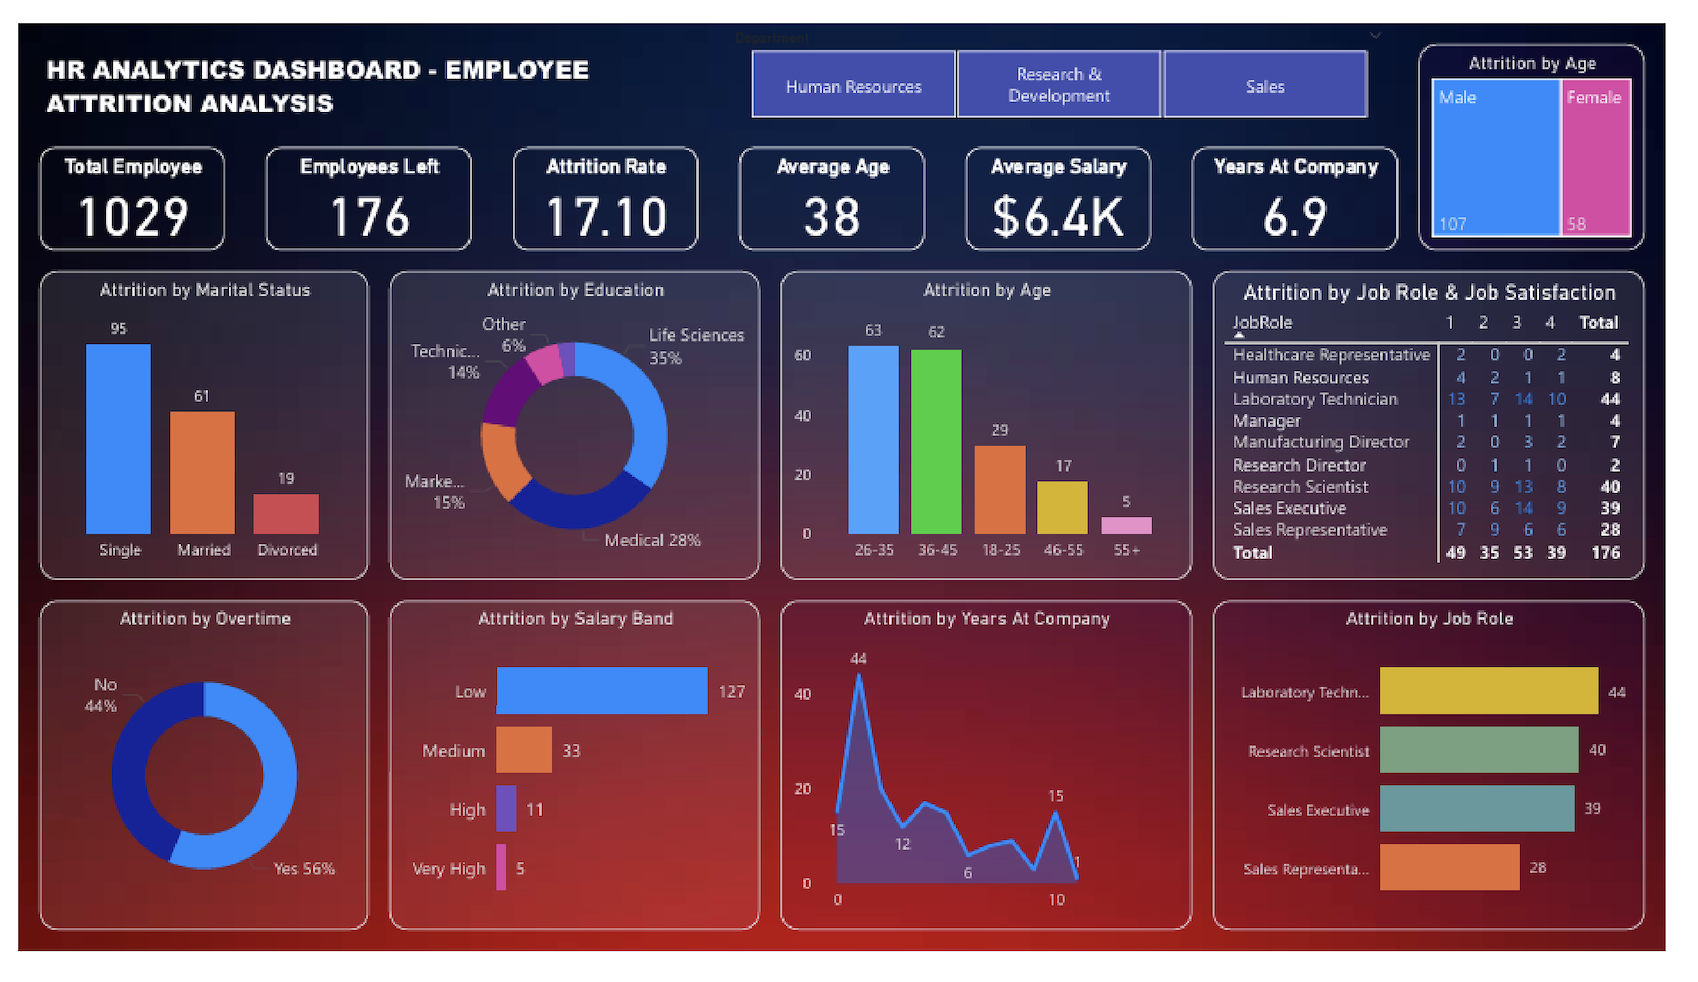

What the dashboard file says about the page in this screenshot:
{"tool":"powerbi","page":{"name":" Employee Attrition","canvas":[1280,720],"ordinal":0},"visuals":[{"type":"card","title":"Total Employee","fields":{"Values":["Measure Table.Total Employees"]},"box":[16,96,144,80],"z":0},{"type":"donutChart","title":"Attrition by Education","fields":{"Category":["employee_attrition_train.EducationField"],"Y":["Sum(employee_attrition_train.Attrition flag)"]},"box":[288,192,288,240],"z":1000},{"type":"card","title":"Employees Left","fields":{"Values":["Measure Table.Employees Left"]},"box":[192,96,160,80],"z":2000},{"type":"columnChart","title":"Attrition by Age","fields":{"Category":["employee_attrition_train.Age Group"],"Y":["Sum(employee_attrition_train.Attrition flag)"]},"box":[592,192,320,240],"z":3000},{"type":"card","title":"Attrition Rate","fields":{"Values":["Measure Table.Attrition Rate %"]},"box":[384,96,144,80],"z":4000},{"type":"pivotTable","title":"Attrition by Job Role & Job Satisfaction","fields":{"Rows":["employee_attrition_train.JobRole"],"Columns":["employee_attrition_train.JobSatisfaction"],"Values":["Sum(employee_attrition_train.Attrition flag)"]},"box":[928,192,336,240],"z":5000},{"type":"card","title":"Average Age","fields":{"Values":["Measure Table.Average Age"]},"box":[560,96,144,80],"z":6000},{"type":"clusteredBarChart","title":"Attrition by Salary Band","fields":{"Category":["employee_attrition_train.Salary Band"],"Y":["Sum(employee_attrition_train.Attrition flag)"]},"box":[288,448,288,256],"z":7000},{"type":"card","title":"Average Salary","fields":{"Values":["Measure Table.Average Salary"]},"box":[736,96,144,80],"z":8000},{"type":"barChart","title":"Attrition by Job Role","fields":{"Y":["Sum(employee_attrition_train.Attrition flag)"],"Category":["employee_attrition_train.JobRole"]},"box":[928,448,336,256],"z":9000},{"type":"card","title":"Years At Company","fields":{"Values":["Avg(employee_attrition_train.YearsAtCompany)"]},"box":[912,96,160,80],"z":10000},{"type":"areaChart","title":"Attrition by Years At Company","fields":{"Category":["employee_attrition_train.YearsAtCompany"],"Y":["Sum(employee_attrition_train.Attrition flag)"]},"box":[592,448,320,256],"z":11000},{"type":"treemap","title":"Attrition by Age","fields":{"Group":["employee_attrition_train.Gender"],"Values":["Sum(employee_attrition_train.Attrition flag)"]},"box":[1088,16,176,160],"z":12000},{"type":"slicer","title":"Average Years","fields":{"Values":["employee_attrition_train.Department"]},"box":[544,0,528,80],"z":13000},{"type":"textbox","box":[16,16,512,64],"z":14000},{"type":"columnChart","title":"Attrition by Marital Status","fields":{"Category":["employee_attrition_train.MaritalStatus"],"Y":["Measure Table.Employees Left"]},"box":[16,192,256,240],"z":15000},{"type":"donutChart","title":"Attrition by Overtime","fields":{"Category":["employee_attrition_train.OverTime"],"Y":["Measure Table.Employees Left"]},"box":[16,448,256,256],"z":16000}]}

Visuals, with their boxes in screenshot pixels (x1, y1, x2, y2), scaled from the page's 1280x720 canvas onto the 1698x982 screenshot:
"Total Employee" card: pyautogui.locateOnScreen(21, 131, 212, 240)
"Attrition by Education" donutChart: pyautogui.locateOnScreen(382, 262, 764, 589)
"Employees Left" card: pyautogui.locateOnScreen(255, 131, 467, 240)
"Attrition by Age" columnChart: pyautogui.locateOnScreen(785, 262, 1210, 589)
"Attrition Rate" card: pyautogui.locateOnScreen(509, 131, 700, 240)
"Attrition by Job Role & Job Satisfaction" pivotTable: pyautogui.locateOnScreen(1231, 262, 1677, 589)
"Average Age" card: pyautogui.locateOnScreen(743, 131, 934, 240)
"Attrition by Salary Band" clusteredBarChart: pyautogui.locateOnScreen(382, 611, 764, 960)
"Average Salary" card: pyautogui.locateOnScreen(976, 131, 1167, 240)
"Attrition by Job Role" barChart: pyautogui.locateOnScreen(1231, 611, 1677, 960)
"Years At Company" card: pyautogui.locateOnScreen(1210, 131, 1422, 240)
"Attrition by Years At Company" areaChart: pyautogui.locateOnScreen(785, 611, 1210, 960)
"Attrition by Age" treemap: pyautogui.locateOnScreen(1443, 22, 1677, 240)
"Average Years" slicer: pyautogui.locateOnScreen(722, 0, 1422, 109)
textbox: pyautogui.locateOnScreen(21, 22, 700, 109)
"Attrition by Marital Status" columnChart: pyautogui.locateOnScreen(21, 262, 361, 589)
"Attrition by Overtime" donutChart: pyautogui.locateOnScreen(21, 611, 361, 960)
